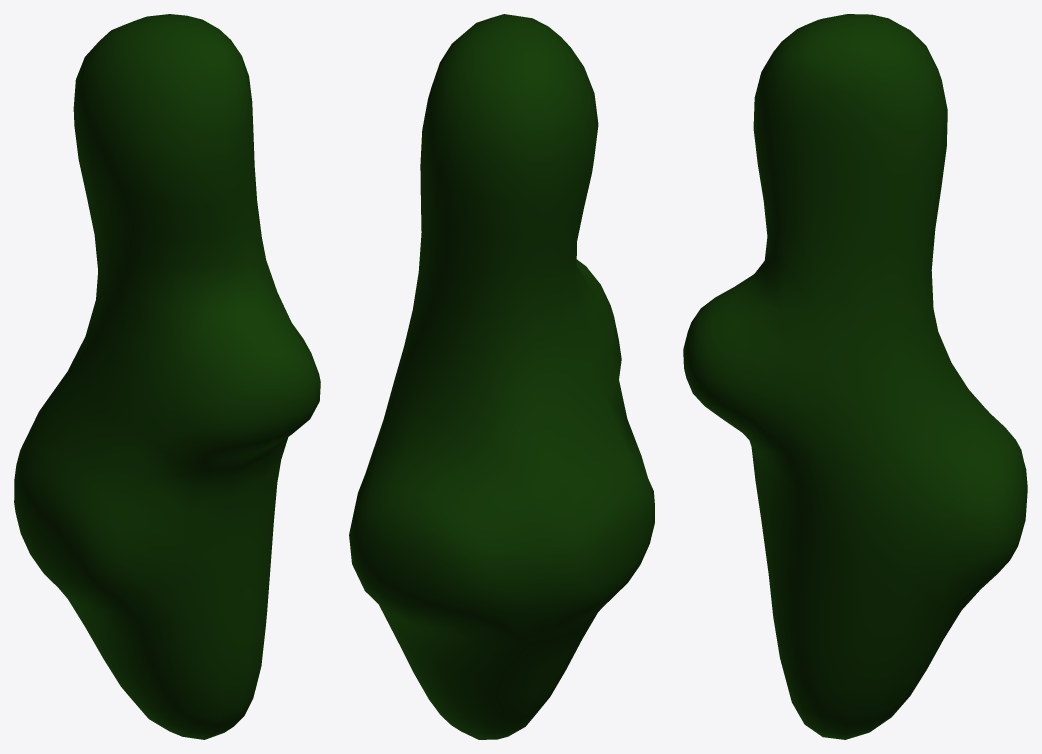
Rendered from Plant1_Low.fbx.
3 views of the same model, side by side, from view 1: azimuth 30°, elevation 25°; view 2: azimuth 150°, elevation 25°; view 3: azimuth 270°, elevation 25° (orthographic).
Parts seen in each view (by area): view 1: PotPlant.001; view 2: PotPlant.001; view 3: PotPlant.001.
Part boxes in pixels (<box>): PotPlant.001: <box>14,14,320,739</box>; PotPlant.001: <box>349,14,654,739</box>; PotPlant.001: <box>683,14,1027,739</box>.
Size of the model in its own units: 30.12 by 89.8 by 39.86.
